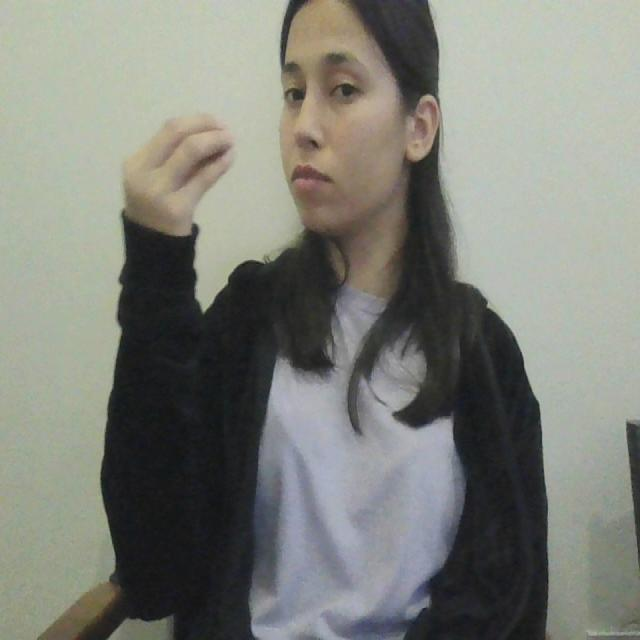Yemek: (114, 110, 336, 209)
